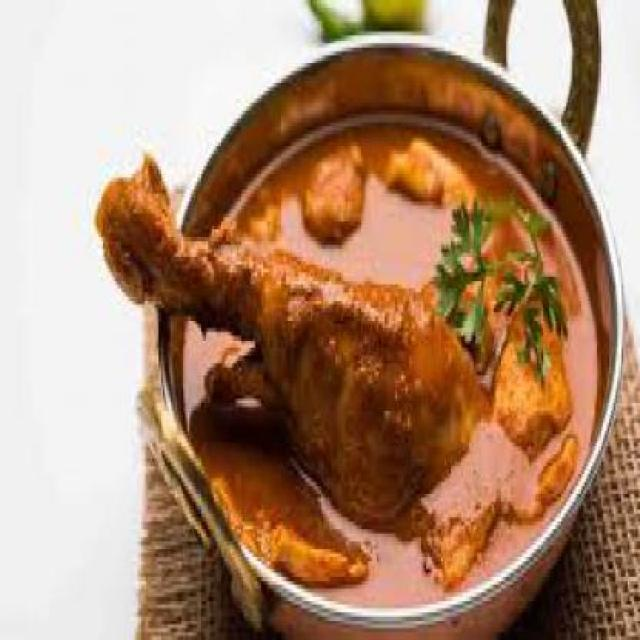CHICKEN CURRY: (97, 125, 597, 624)
